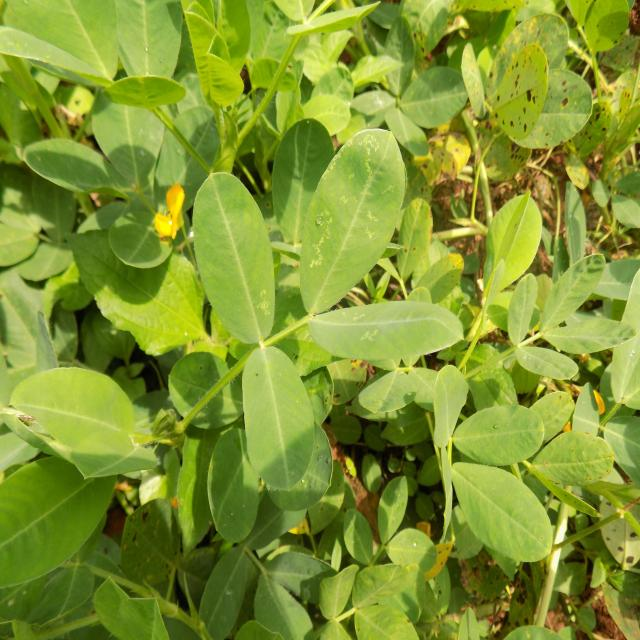Ground nut_healthy: (290, 128, 400, 305), (1, 456, 114, 594), (10, 364, 151, 468), (194, 169, 273, 332), (239, 346, 321, 498), (440, 454, 553, 560), (298, 294, 462, 364), (490, 187, 534, 295), (388, 22, 422, 96)
Ground nut_tikka leaf spot: (484, 47, 554, 148)
